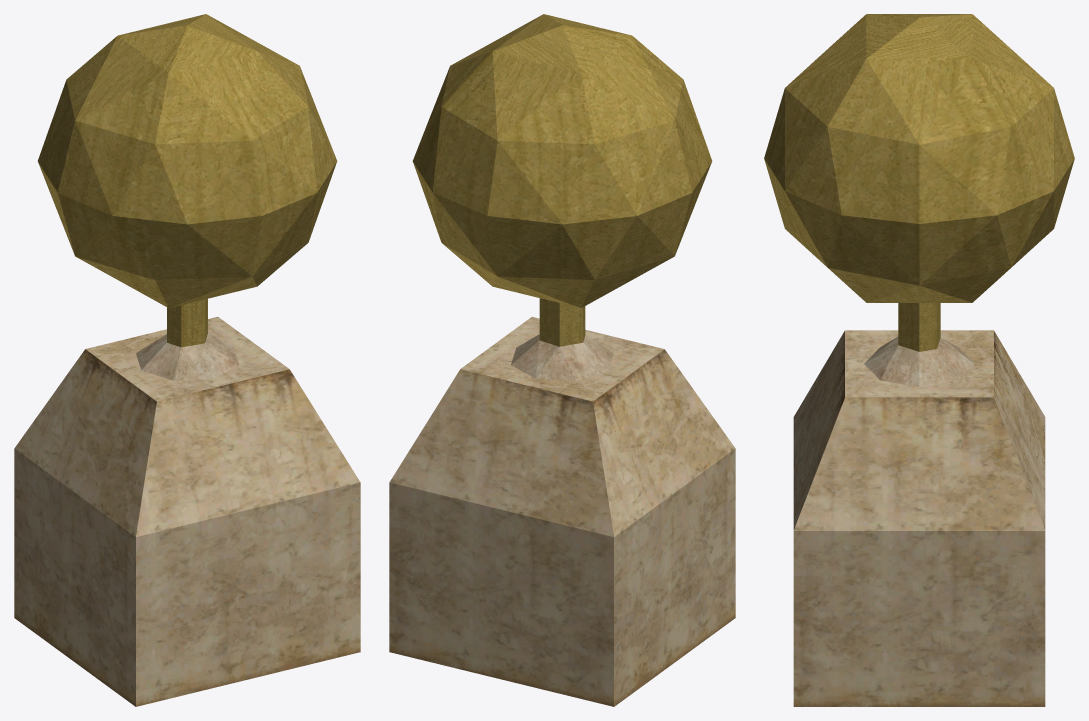
File: thm_tato_guild_golden_ball_freestand_s01_l2.fbx
3 views of the same model, side by side, from view 1: azimuth 30°, elevation 25°; view 2: azimuth 150°, elevation 25°; view 3: azimuth 270°, elevation 25° (orthographic). The views are drawn at different scales.
Visible parts, largest first — view 1: mesh_node; view 2: mesh_node; view 3: mesh_node.
Part boxes in pixels (bbox=[...]): mesh_node: bbox=[14, 14, 360, 706]; mesh_node: bbox=[389, 14, 735, 706]; mesh_node: bbox=[764, 14, 1074, 706].
Bounding box in the file's own units: 3.7 × 8.32 × 3.7.
Materials: 3 (3 with a texture image).
